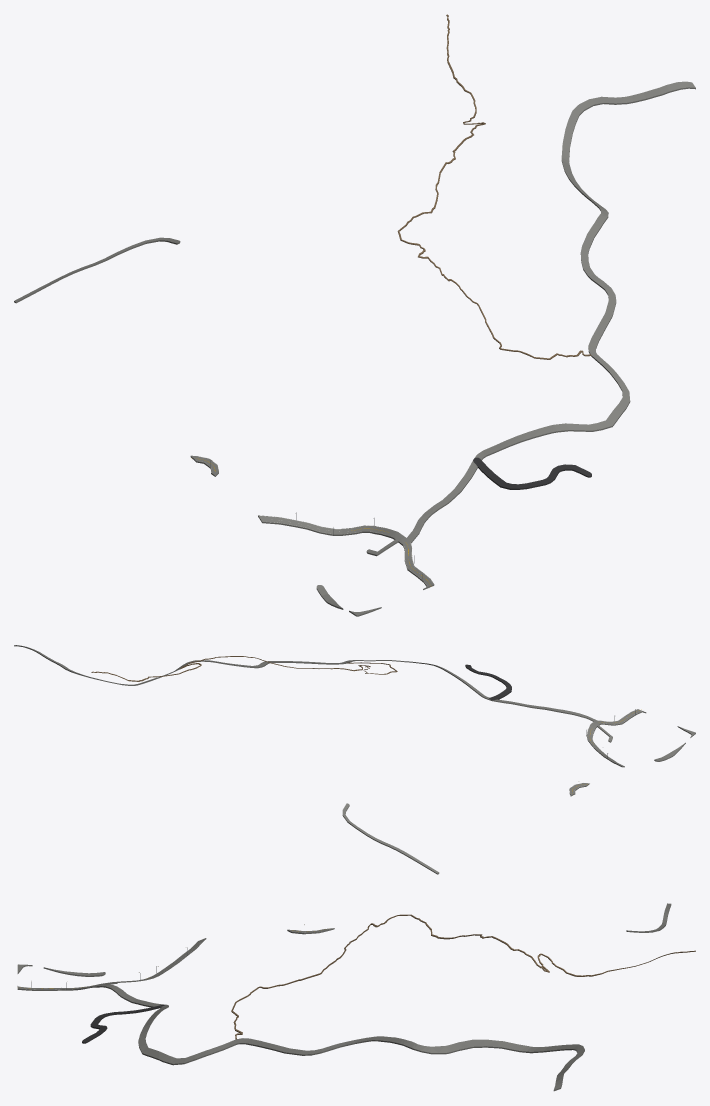
3 views of the same model, one above another, from view 1: azimuth 30°, elevation 25°; view 2: azimuth 150°, elevation 25°; view 3: azimuth 270°, elevation 25° (orthographic). The views are drawn at different scales.
Bounding box in the file's own units: 589 × 218 × 586.
